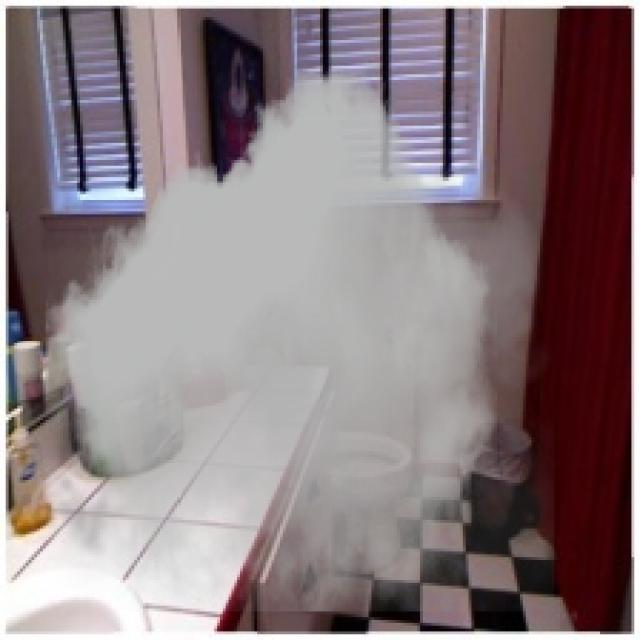smoke: (37, 69, 554, 612)
